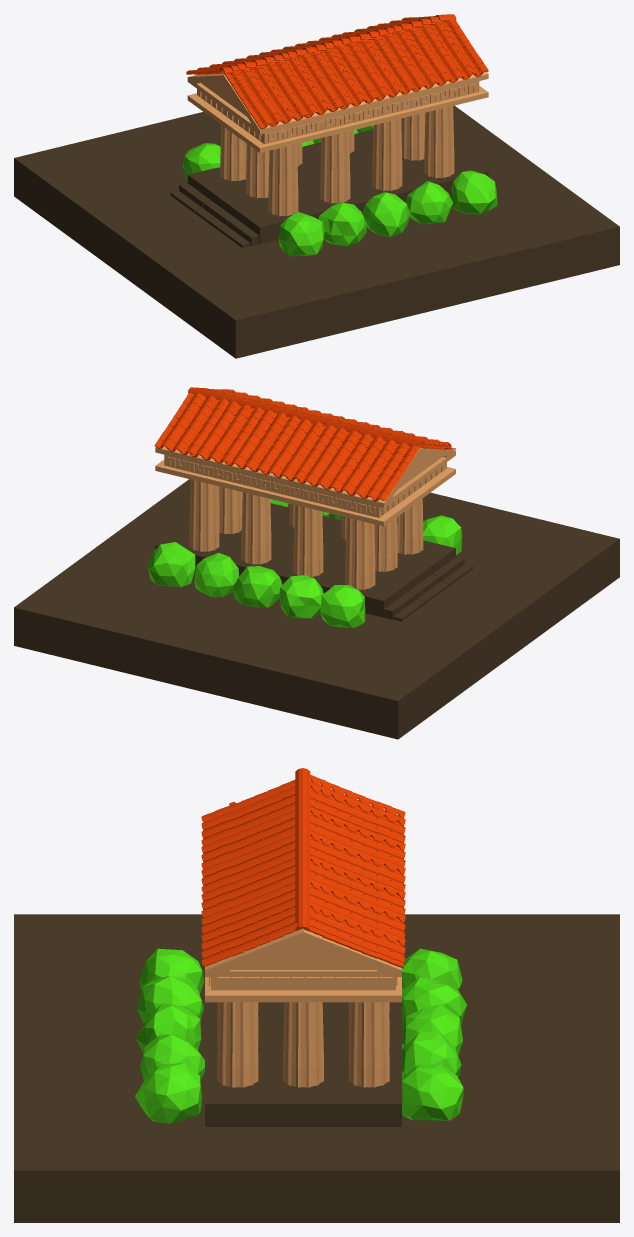
Rendered from hra_panteon.fbx.
The picture shows the model from 3 angles, top to bottom: view 1: azimuth 30°, elevation 25°; view 2: azimuth 150°, elevation 25°; view 3: azimuth 270°, elevation 25°; orthographic projection. The views are drawn at different scales.
Parts seen in each view (by area): view 1: Cube.004, Cylinder.006, Icosphere.009, Cube.001, Cube, Cylinder.001, Cylinder.009, Cylinder.004, Cylinder.008, Cylinder.041, Cylinder.005, Cylinder.011 (+5 smaller); view 2: Cube.004, Cylinder.005, Icosphere.009, Cube.001, Cube, Cylinder.007, Cylinder.003, Cylinder.010, Cylinder.011, Cylinder.041, Cylinder.009, Cube.002 (+5 smaller); view 3: Cube.004, Icosphere.009, Cube, Cylinder.005, Cylinder.006, Cube.001, Cylinder.001, Cylinder.003, Cylinder.002, Cylinder.041, Cylinder.013, Cylinder.017.
Boxes of the visible parts, box(x1,y1,x2,y2) form: Cube.004: box(14, 105, 619, 358); Cylinder.006: box(240, 17, 488, 126); Icosphere.009: box(183, 125, 497, 256); Cube.001: box(187, 32, 488, 152); Cube: box(187, 129, 488, 243); Cylinder.001: box(424, 106, 454, 178); Cylinder.009: box(268, 144, 298, 216); Cylinder.004: box(372, 118, 402, 190); Cylinder.008: box(320, 131, 350, 203); Cylinder.041: box(219, 14, 456, 73); Cylinder.005: box(197, 16, 434, 69); Cylinder.011: box(220, 125, 246, 180); Cube.004: box(14, 479, 619, 739); Cylinder.005: box(154, 392, 408, 498); Icosphere.009: box(147, 499, 462, 628); Cube.001: box(155, 416, 455, 526); Cube: box(155, 503, 455, 617); Cylinder.007: box(241, 492, 271, 564); Cylinder.003: box(189, 479, 219, 551); Cylinder.010: box(293, 505, 323, 577); Cylinder.011: box(345, 517, 375, 589); Cylinder.041: box(188, 387, 424, 446); Cylinder.009: box(397, 498, 423, 554); Cube.002: box(384, 556, 464, 619); Cube.004: box(14, 914, 619, 1222); Icosphere.009: box(135, 948, 466, 1123); Cube: box(205, 1002, 401, 1126); Cylinder.005: box(303, 782, 405, 968); Cylinder.006: box(201, 787, 302, 966); Cube.001: box(205, 806, 401, 1002); Cylinder.001: box(217, 1002, 258, 1087); Cylinder.003: box(348, 1002, 389, 1087); Cylinder.002: box(283, 1002, 323, 1087); Cylinder.041: box(295, 768, 310, 930); Cylinder.013: box(310, 775, 405, 821); Cylinder.017: box(201, 780, 295, 822).
Size of the model in its own units: 1847 by 1847 by 876.
